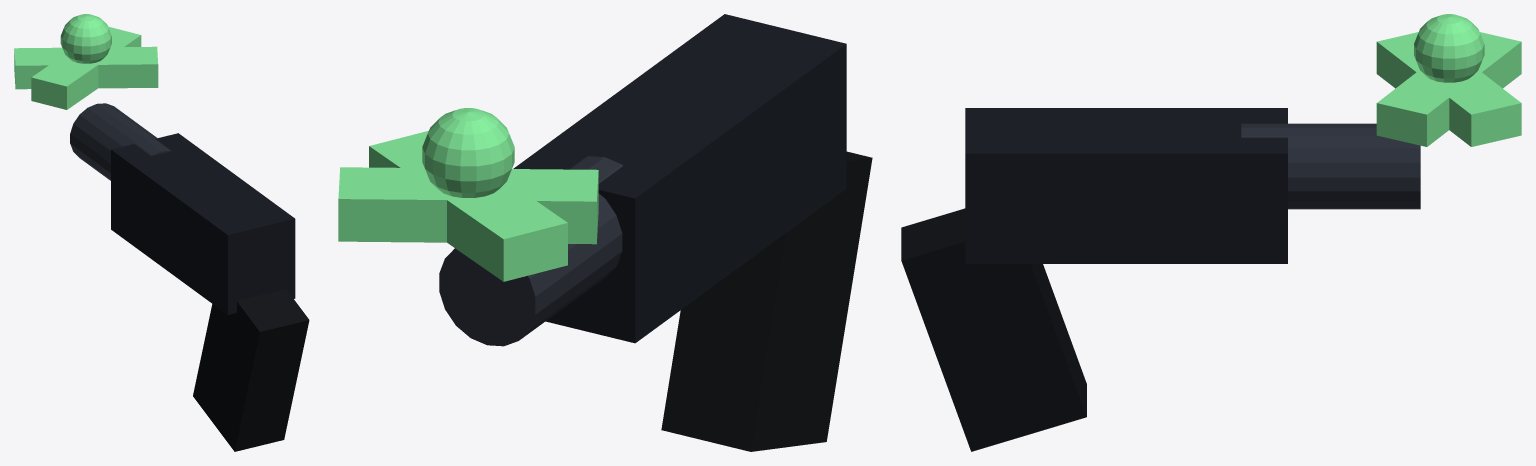
Rendered from boomerang.glb.
3 renders of one model, left to right at view 1: azimuth 30°, elevation 25°; view 2: azimuth 150°, elevation 25°; view 3: azimuth 270°, elevation 25°, orthographic. The views are drawn at different scales.
Parts seen in each view (by area): view 1: Cube, Cube.001, Cube.003, Cylinder, Cube.002, Sphere; view 2: Cube, Cube.001, Cube.002, Cylinder, Cube.003, Sphere; view 3: Cube, Cube.001, Cylinder, Cube.002, Cube.003, Sphere.
Part boxes in pixels (x1,y1,x2,y2): Cube: [111, 133, 295, 314]; Cube.001: [193, 289, 309, 451]; Cube.003: [14, 46, 158, 89]; Cylinder: [70, 103, 171, 180]; Cube.002: [31, 26, 141, 109]; Sphere: [60, 14, 111, 63]; Cube: [513, 14, 846, 343]; Cube.001: [661, 151, 872, 451]; Cube.002: [338, 167, 598, 244]; Cylinder: [439, 156, 622, 346]; Cube.003: [369, 130, 567, 281]; Sphere: [422, 108, 514, 197]; Cube: [965, 108, 1287, 263]; Cube.001: [901, 208, 1086, 451]; Cylinder: [1241, 123, 1420, 209]; Cube.002: [1376, 32, 1521, 146]; Cube.003: [1376, 32, 1521, 146]; Sphere: [1414, 14, 1484, 82].
Bounding box in the file's own units: 0.5594 × 1.29 × 1.73.
